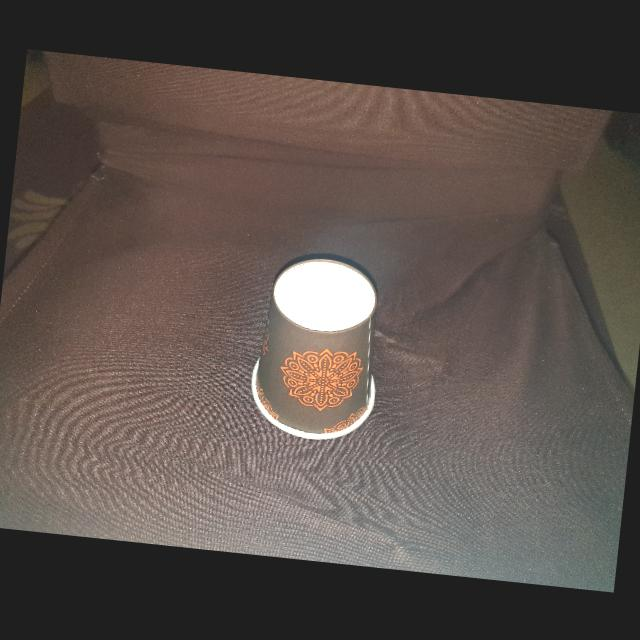trash: (231, 239, 403, 455)
